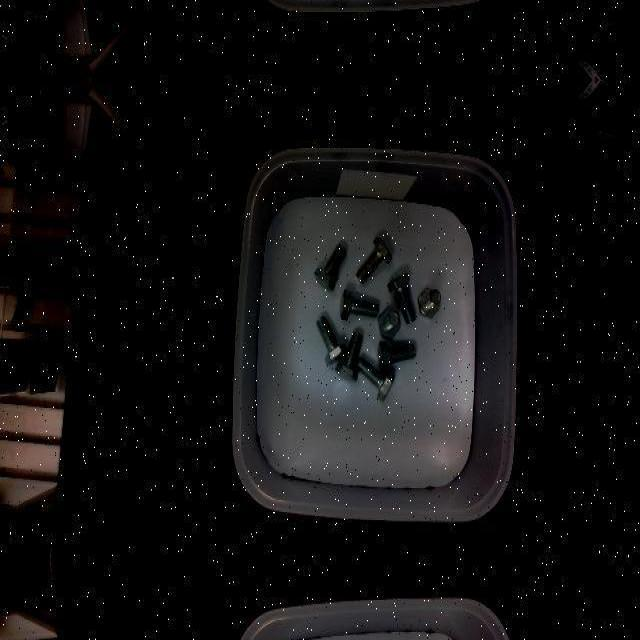screw: (357, 357, 395, 401), (356, 236, 392, 282), (315, 315, 345, 365), (313, 243, 345, 289), (387, 272, 415, 322), (335, 332, 362, 380), (376, 341, 416, 371), (339, 289, 377, 319), (378, 307, 401, 339), (418, 286, 441, 316)
